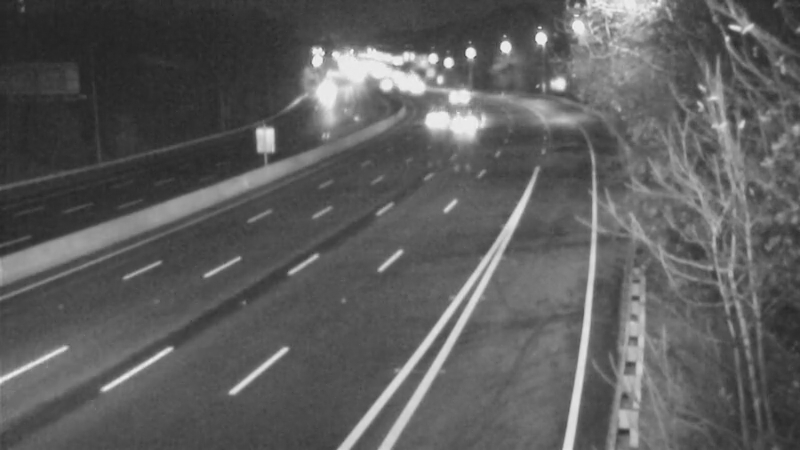vehicle: (431, 70, 481, 120), (404, 96, 454, 146), (435, 95, 485, 145), (298, 68, 348, 118)
